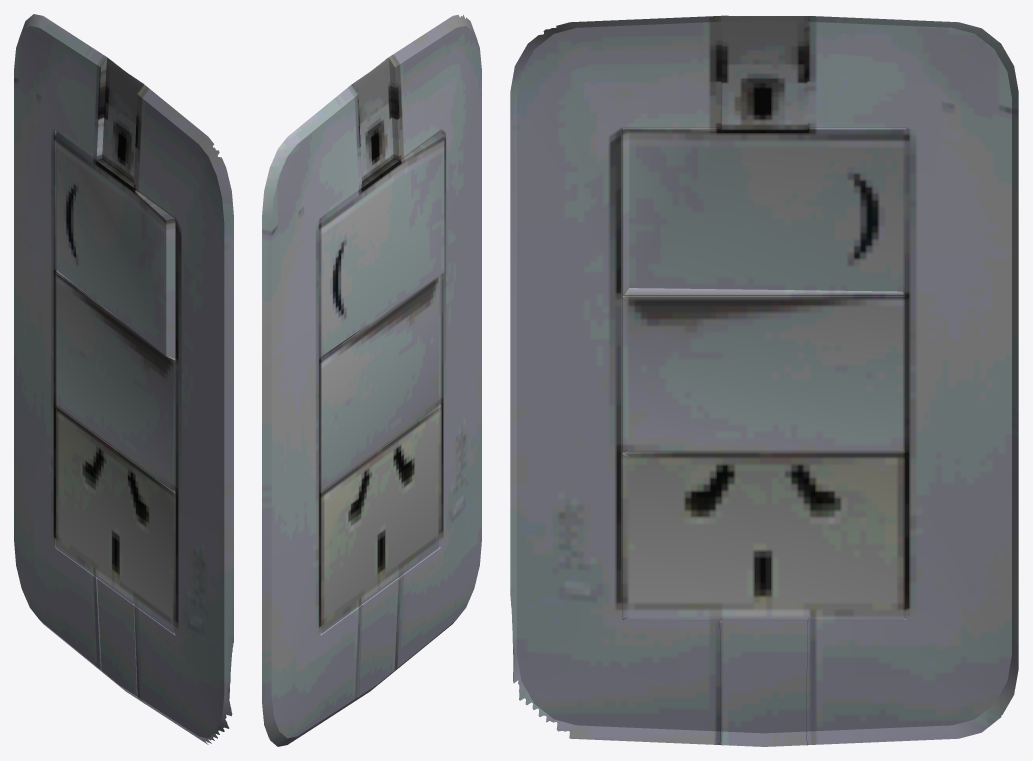
Rendered from light_swcht.fbx.
The picture shows the model from 3 angles, left to right: view 1: azimuth 30°, elevation 25°; view 2: azimuth 150°, elevation 25°; view 3: azimuth 270°, elevation 25°; orthographic projection. The views are drawn at different scales.
Visible parts, largest first — view 1: light?swicht; view 2: light?swicht; view 3: light?swicht.
Part boxes in pixels (<box>): light?swicht: <box>14,14,233,744</box>; light?swicht: <box>262,14,481,746</box>; light?swicht: <box>510,15,1018,746</box>.
Bounding box in the file's own units: 0.3921 × 13.54 × 8.51.
